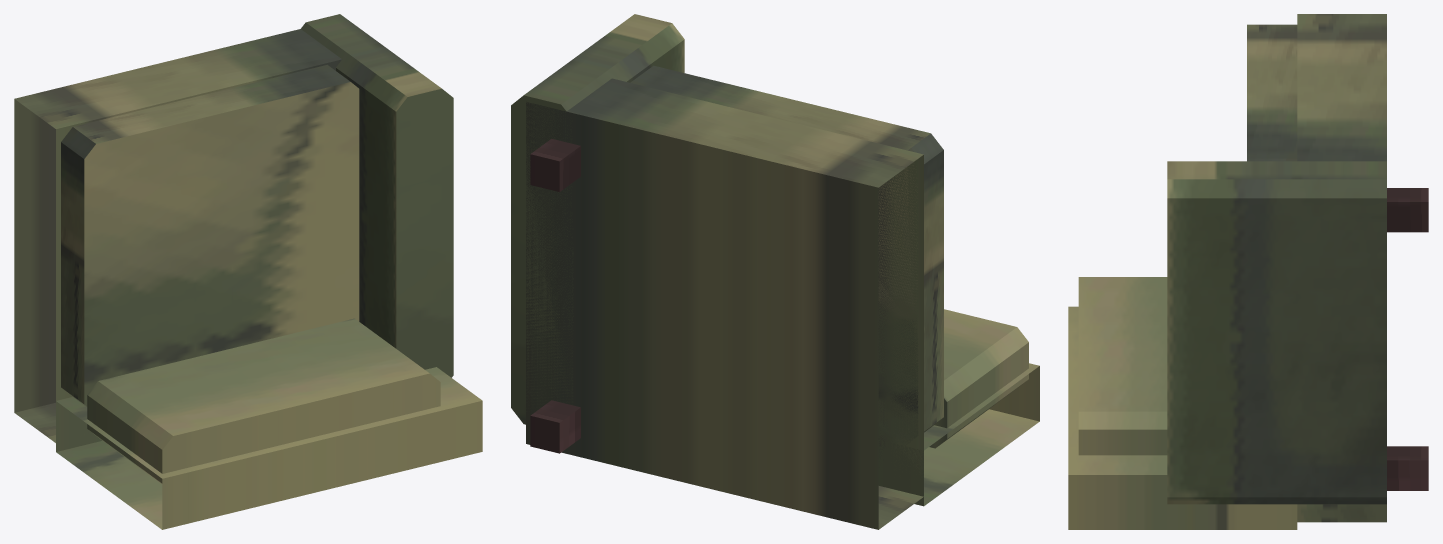
The model's file is pz_sofa_seating_indoor_01_green_comfy_1_0.obj.
3 views of the same model, side by side, from view 1: azimuth 30°, elevation 25°; view 2: azimuth 150°, elevation 25°; view 3: azimuth 270°, elevation 25° (orthographic). The views are drawn at different scales.
Bounding box in the file's own units: 1 × 0.93 × 0.86.
1 material, 1 textured.
